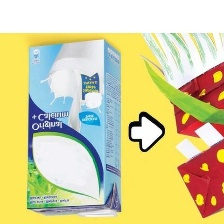carton: (22, 34, 129, 218)
